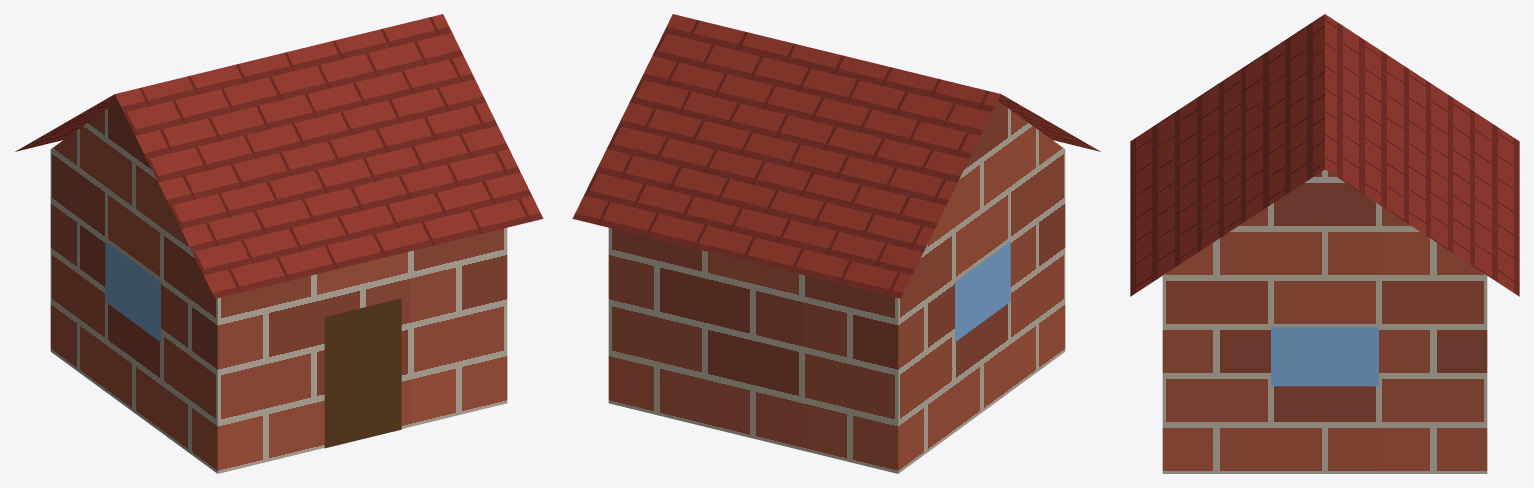
Rendered from casa.obj.
The picture shows the model from 3 angles, left to right: view 1: azimuth 30°, elevation 25°; view 2: azimuth 150°, elevation 25°; view 3: azimuth 270°, elevation 25°; orthographic projection. The views are drawn at different scales.
Bounding box in the file's own units: 3.4 × 3.2 × 3.6.
Materials: 4 (2 with a texture image).
